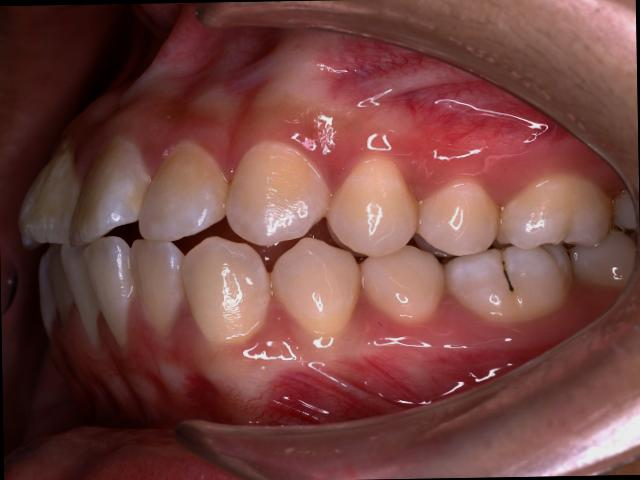canine class I: (175, 140, 365, 354)
molar class III 1/2: (442, 170, 624, 331)
